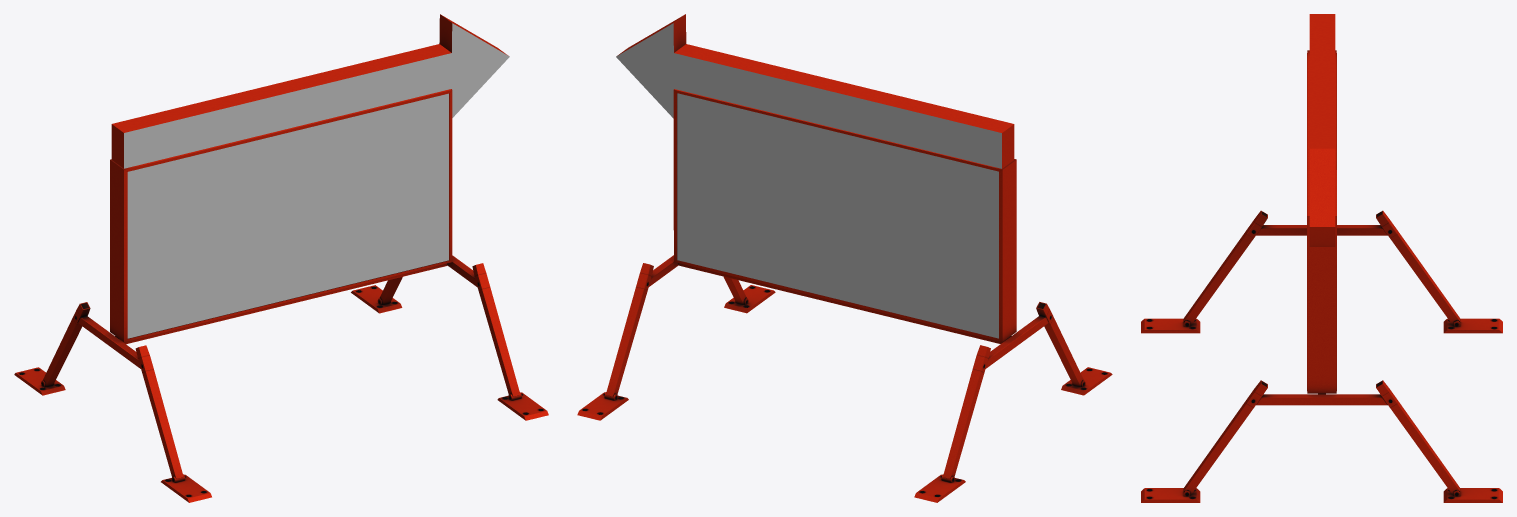
Rendered from marquee_sign_lod4.fbx.
3 renders of one model, left to right at view 1: azimuth 30°, elevation 25°; view 2: azimuth 150°, elevation 25°; view 3: azimuth 270°, elevation 25°, orthographic. The views are drawn at different scales.
Parts seen in each view (by area): view 1: marquee1, arrow, stand; view 2: marquee1, arrow, stand; view 3: stand, arrow, marquee1.
Boxes of the visible parts, bbox=[...] form: marquee1: bbox=[110, 89, 452, 342]; arrow: bbox=[111, 14, 509, 168]; stand: bbox=[14, 255, 548, 502]; marquee1: bbox=[673, 89, 1016, 341]; arrow: bbox=[616, 14, 1014, 168]; stand: bbox=[577, 255, 1112, 502]; stand: bbox=[1141, 210, 1502, 502]; arrow: bbox=[1309, 14, 1335, 246]; marquee1: bbox=[1307, 50, 1336, 393].
Bounding box in the file's own units: 257 × 205 × 194.
